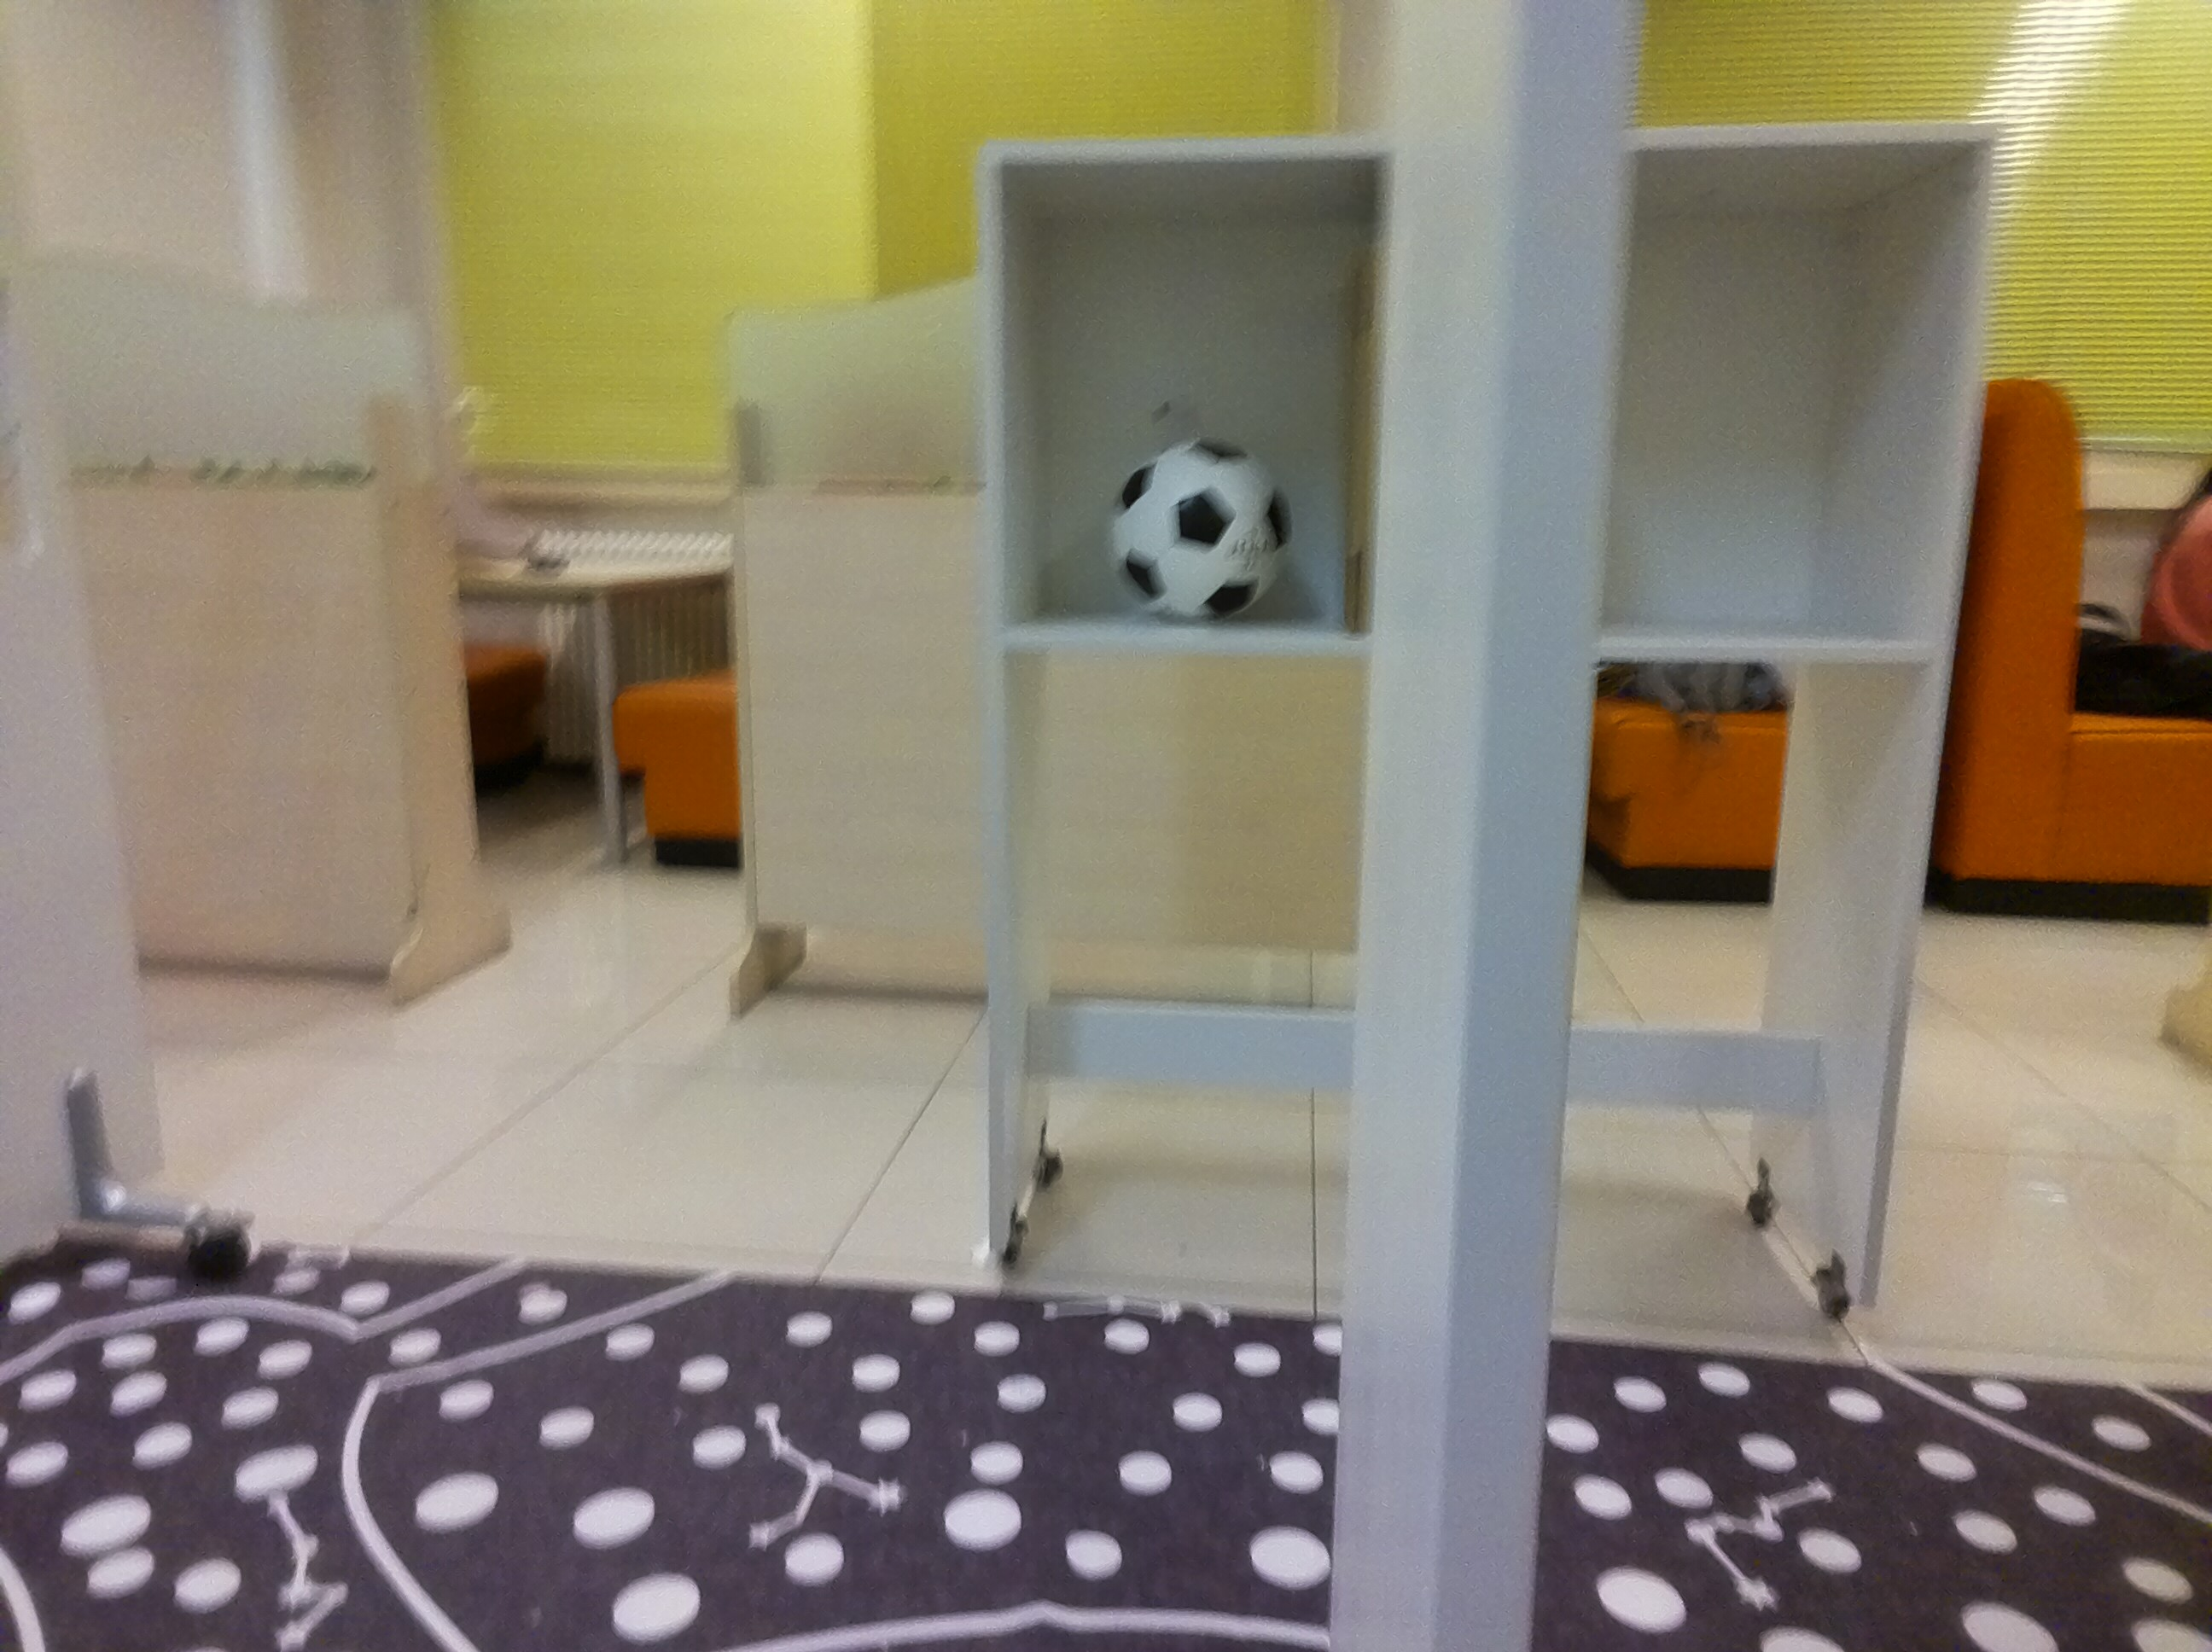football: (1103, 432, 1308, 626)
